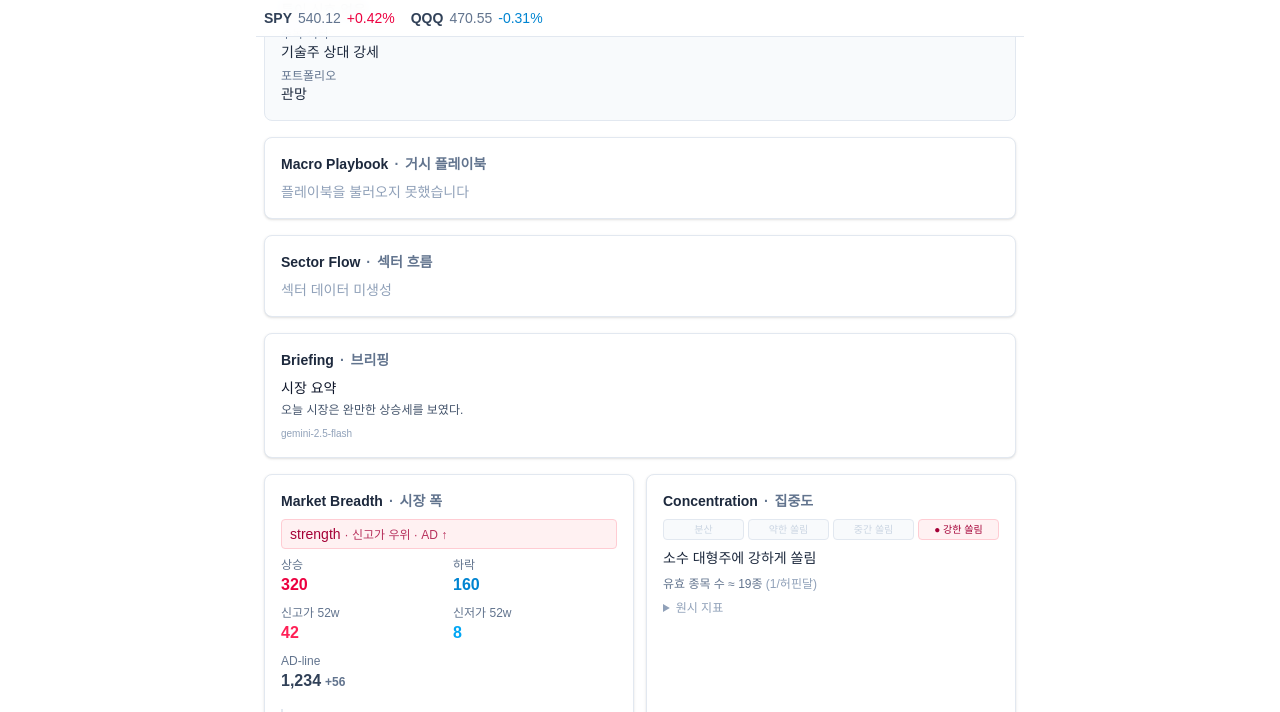
Test: MarketPulseV2Page › 라우팅: Briefing 카드 → drawer 타이틀 "Briefing · 브리핑"
(page scrolled)
What coordinates should you click on to do the following:
click the text "Briefing"
I would click on:
 (307, 360)
Its box is [281,352,334,368].
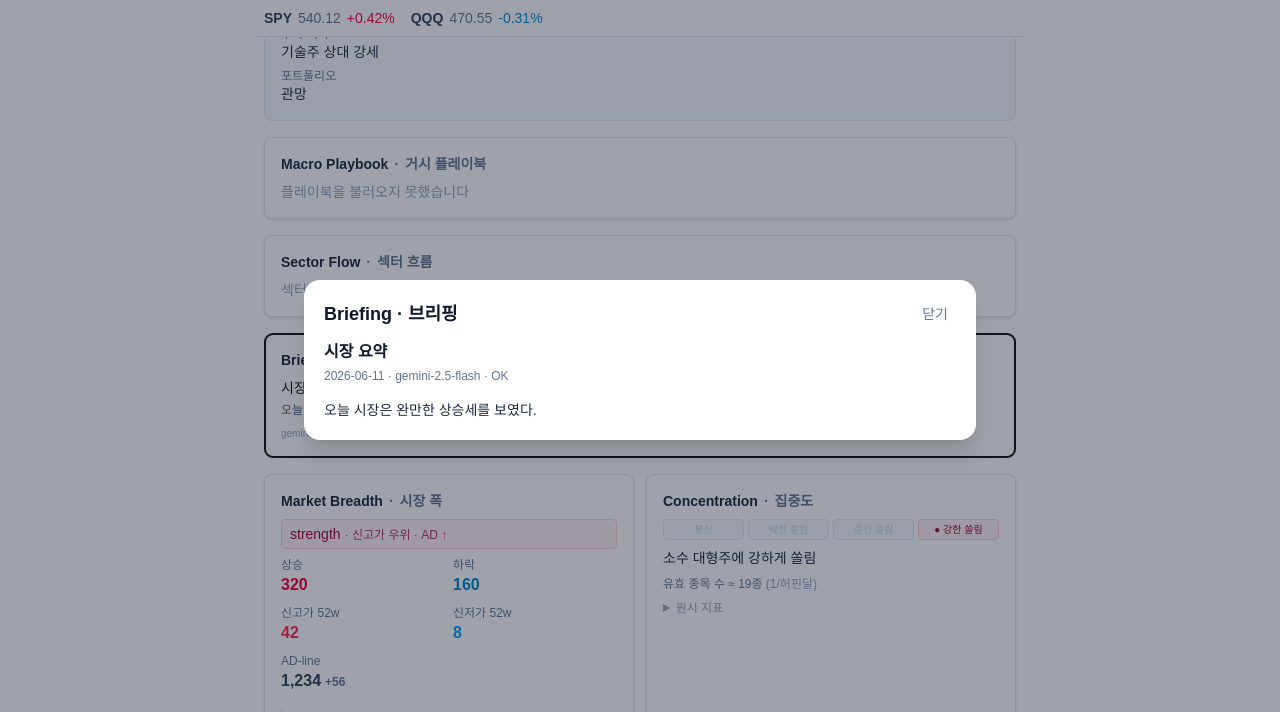
Check: the heading "Briefing · 브리핑" is shown, box [324,300,458,328]
